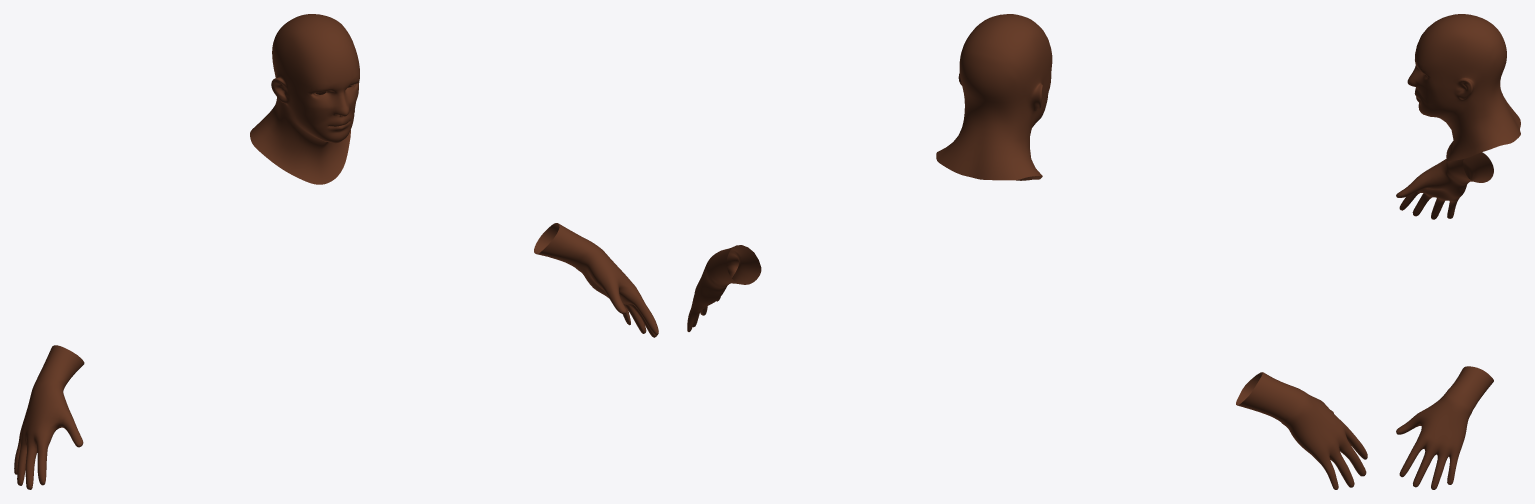
Rendered from Human_Base_Mark1.obj.
The picture shows the model from 3 angles, left to right: view 1: azimuth 30°, elevation 25°; view 2: azimuth 150°, elevation 25°; view 3: azimuth 270°, elevation 25°; orthographic projection. The views are drawn at different scales.
Visible parts, largest first — view 1: Human_Mesh; view 2: Human_Mesh; view 3: Human_Mesh.
Part boxes in pixels (x1,y1,x2,y2): Human_Mesh: [14, 14, 658, 489]; Human_Mesh: [687, 14, 1367, 489]; Human_Mesh: [1396, 14, 1520, 489].
Size of the model in its own units: 143 by 82.34 by 27.65.
